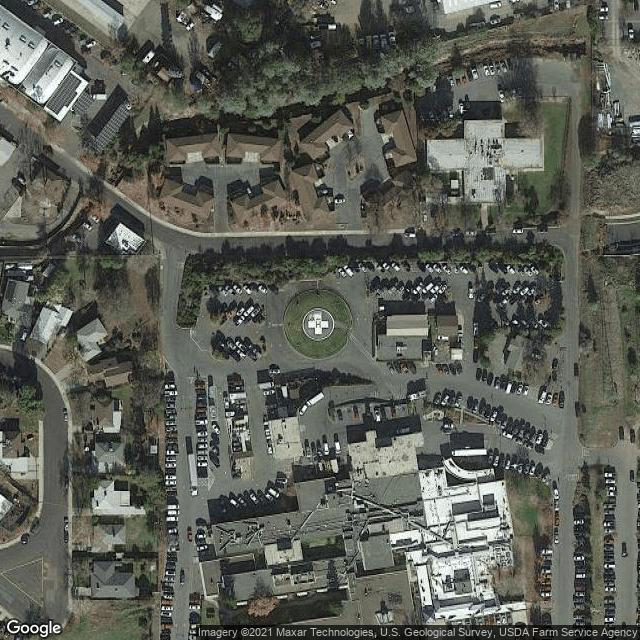Helipad: (301, 305, 336, 341)
